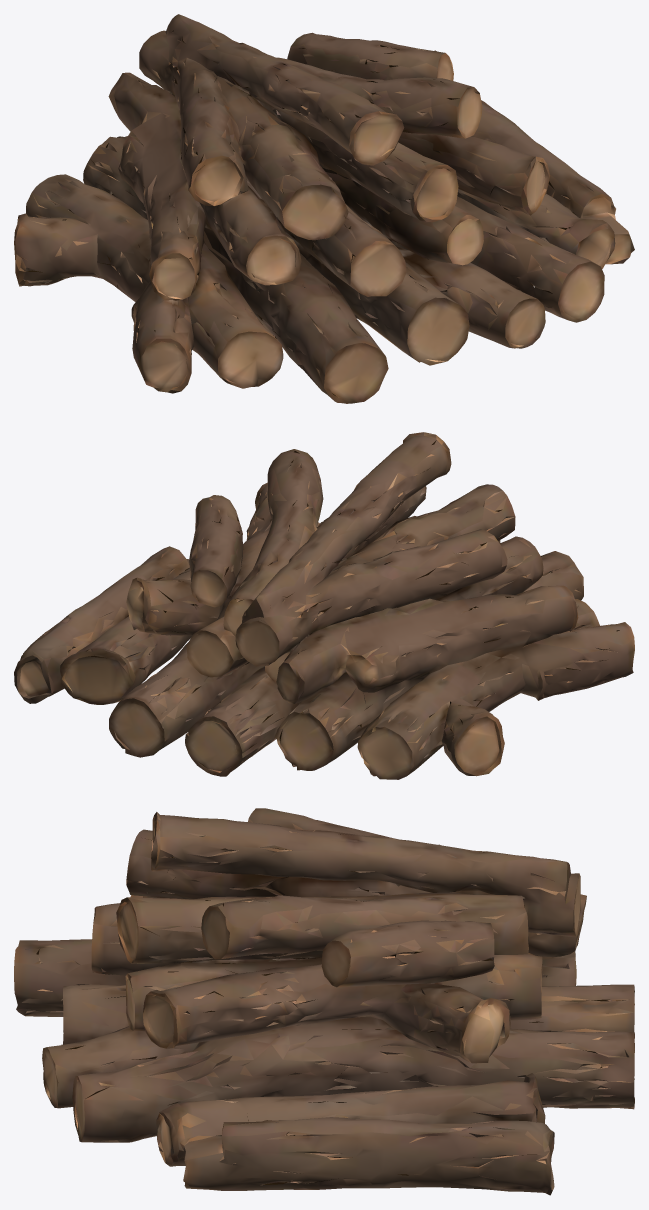
File: LogPile.glb
3 views of the same model, one above another, from view 1: azimuth 30°, elevation 25°; view 2: azimuth 150°, elevation 25°; view 3: azimuth 270°, elevation 25° (orthographic). The views are drawn at different scales.
Visible parts, largest first — view 1: LogPile; view 2: LogPile; view 3: LogPile.
Part boxes in pixels (<box>): LogPile: <box>14,14,634,403</box>; LogPile: <box>14,432,634,779</box>; LogPile: <box>14,808,634,1195</box>.
Size of the model in its own units: 2.88 by 1.25 by 2.87.
1 material, 1 textured.
